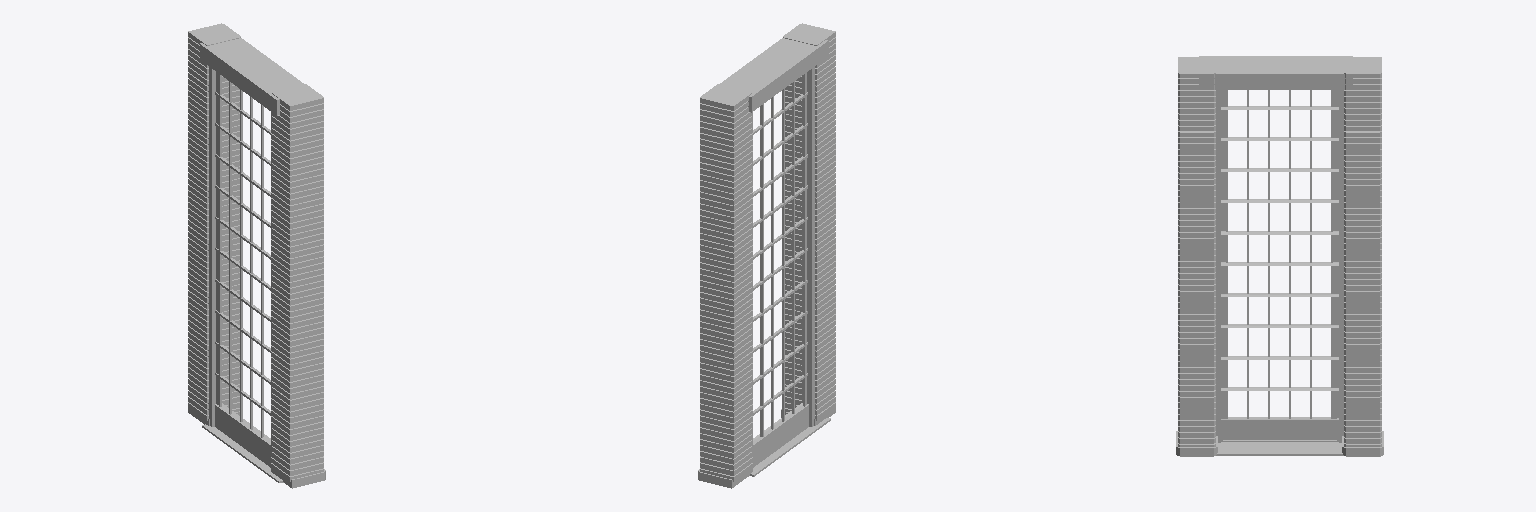
The model's file is building_structure_1obj.obj.
3 views of the same model, side by side, from view 1: azimuth 30°, elevation 25°; view 2: azimuth 150°, elevation 25°; view 3: azimuth 270°, elevation 25° (orthographic).
Parts seen in each view (by area): view 1: Cube; view 2: Cube; view 3: Cube.
Part boxes in pixels (x1,y1,x2,y2): Cube: (188,23,325,488); Cube: (698,23,835,488); Cube: (1176,56,1383,456).
Size of the model in its own units: 2.19 by 20.02 by 9.85.